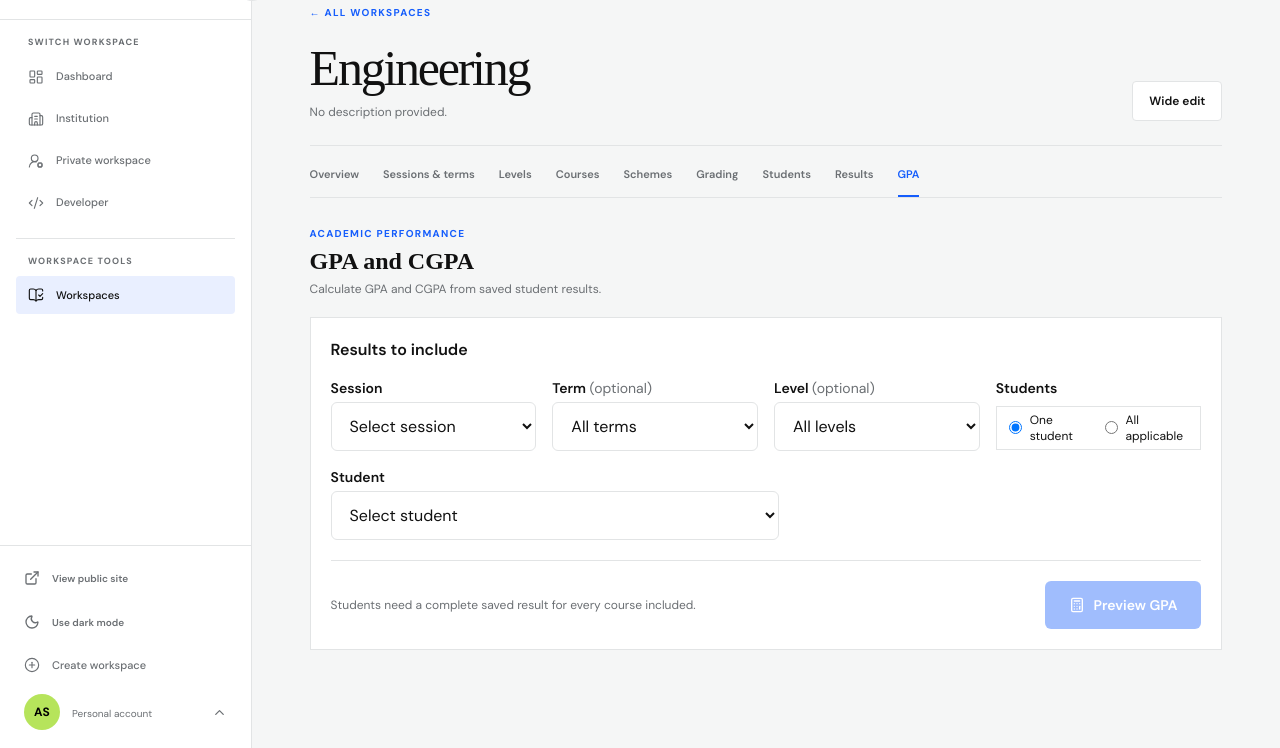
it: GPA workspace flow › replaces a ready preview when save returns a fresh preflight
Select "2026/2027" in the dropdown labelled "Session": (433, 426) left=331, top=402, right=536, bottom=451
Select "First Semester" in the dropdown labelled "Term (optional)": (655, 426) left=552, top=402, right=758, bottom=451
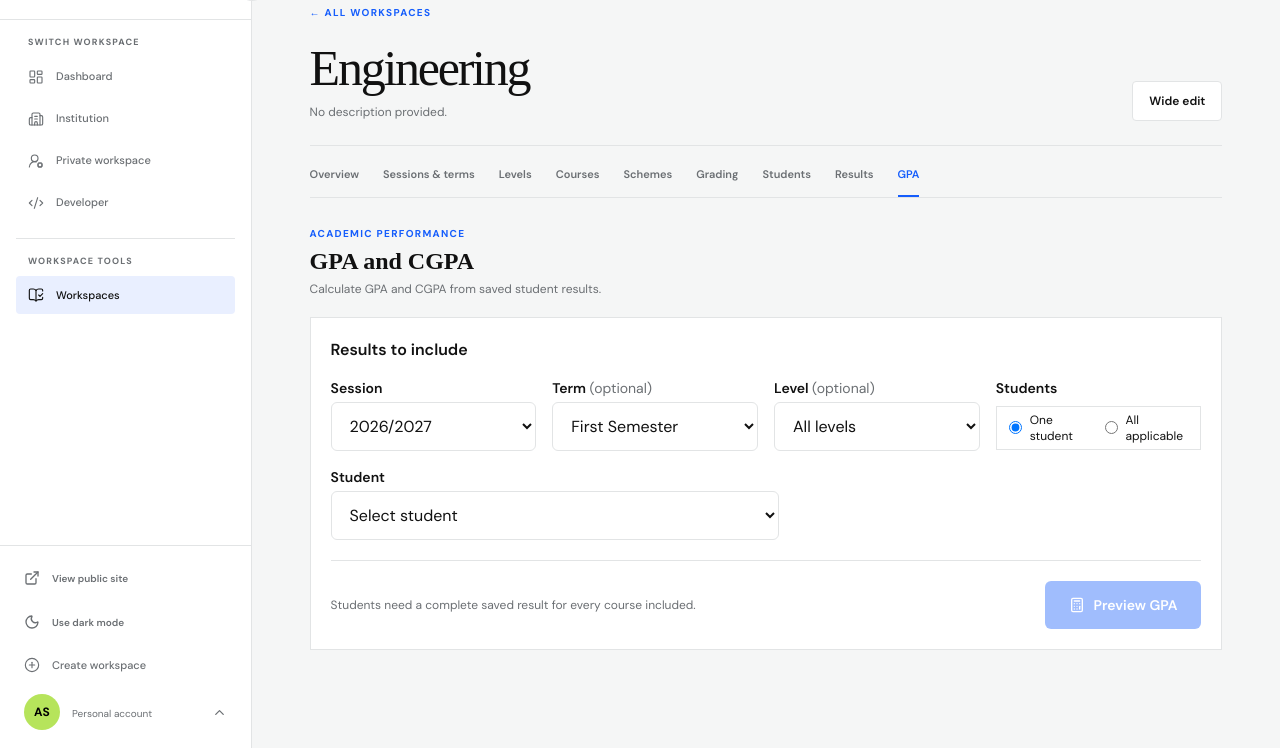
Select "L400 — 400 Level" in the dropdown labelled "Level (optional)": (877, 426) left=774, top=402, right=980, bottom=451
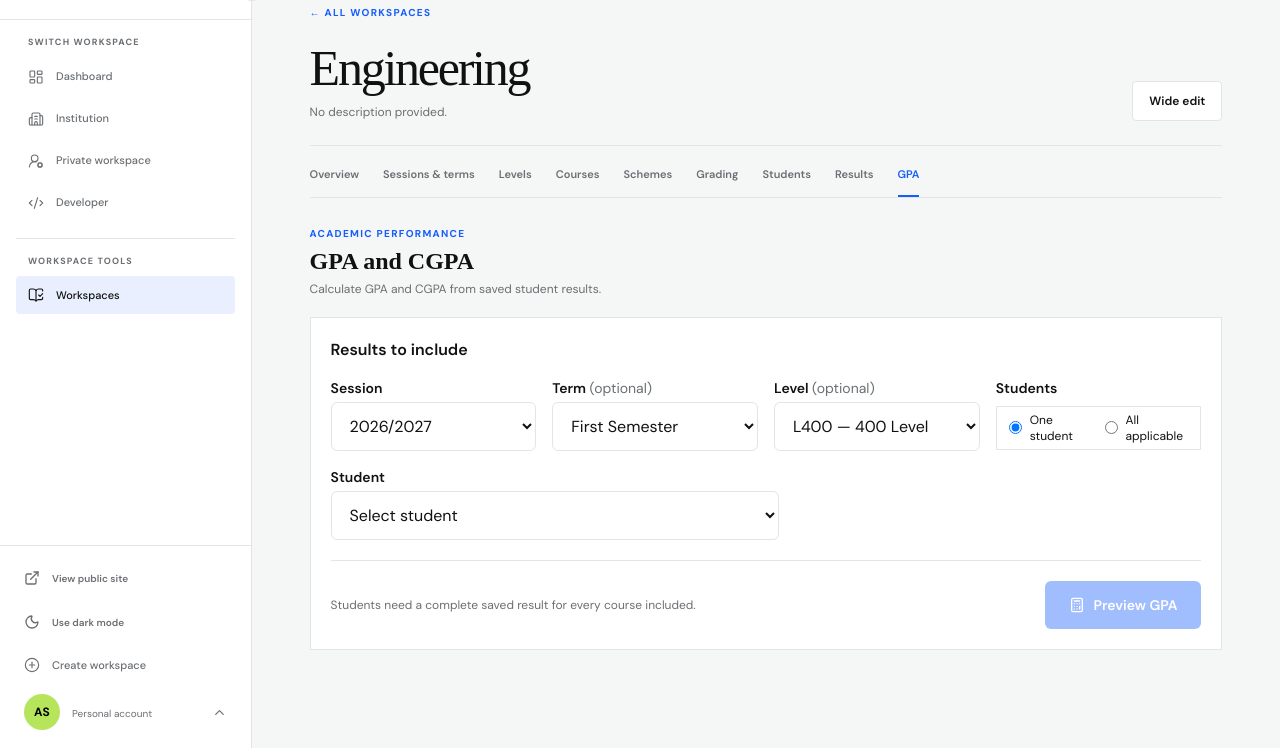
Select "Ada Lovelace · ENG/001" in the dropdown labelled "Student": (555, 515) left=331, top=491, right=779, bottom=540
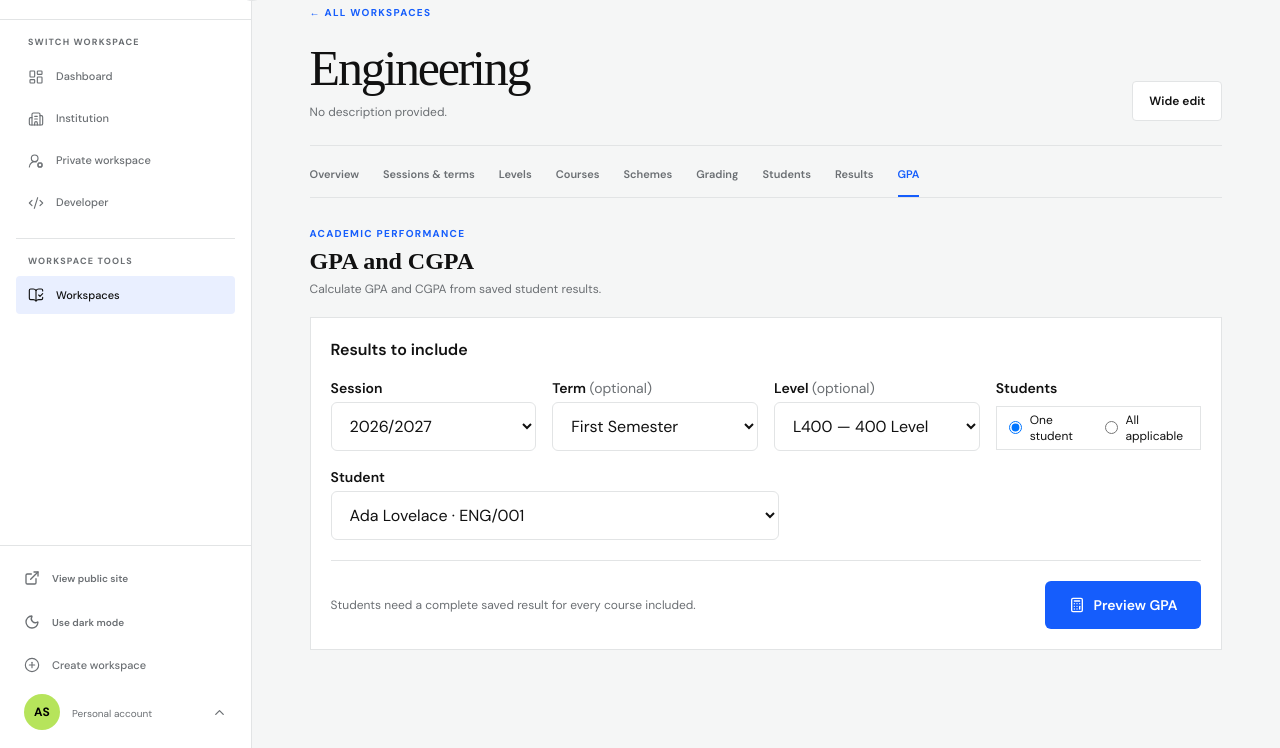
Click the button "Preview GPA": (1123, 605) left=1046, top=581, right=1201, bottom=629
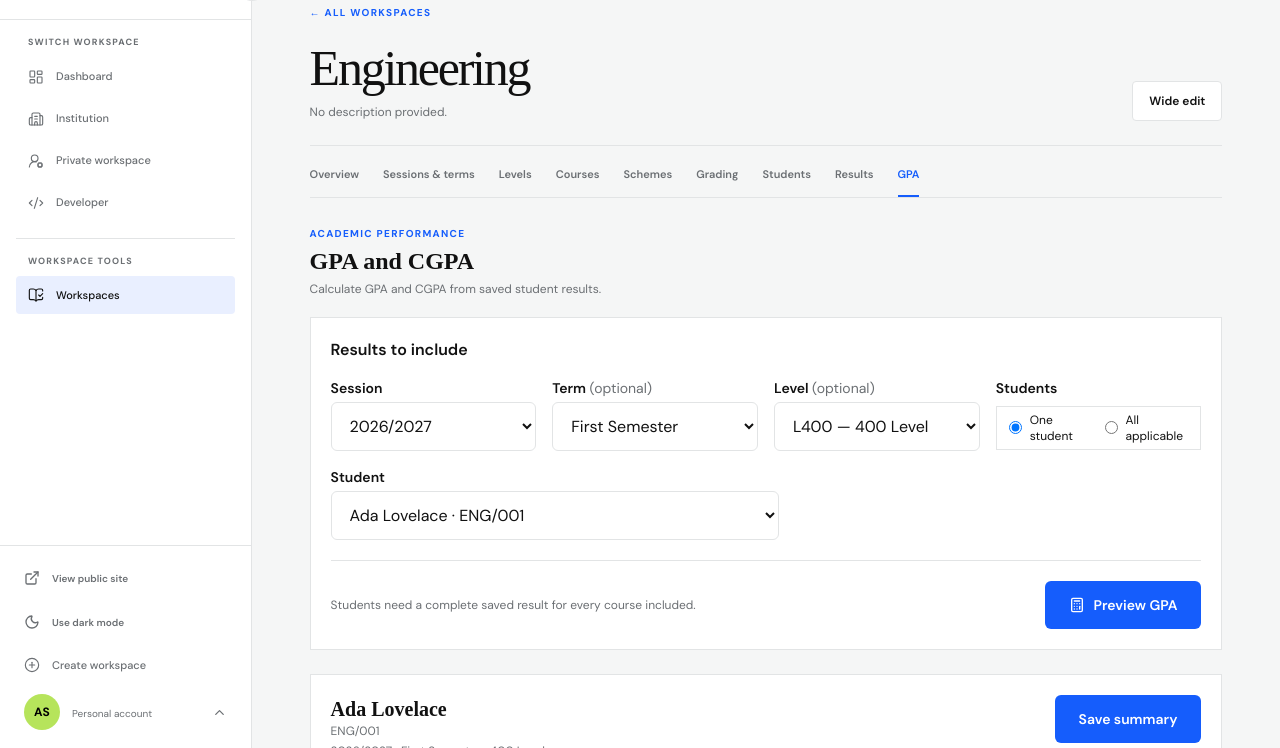
Click the button "Save summary": (1128, 719) left=1054, top=695, right=1201, bottom=743
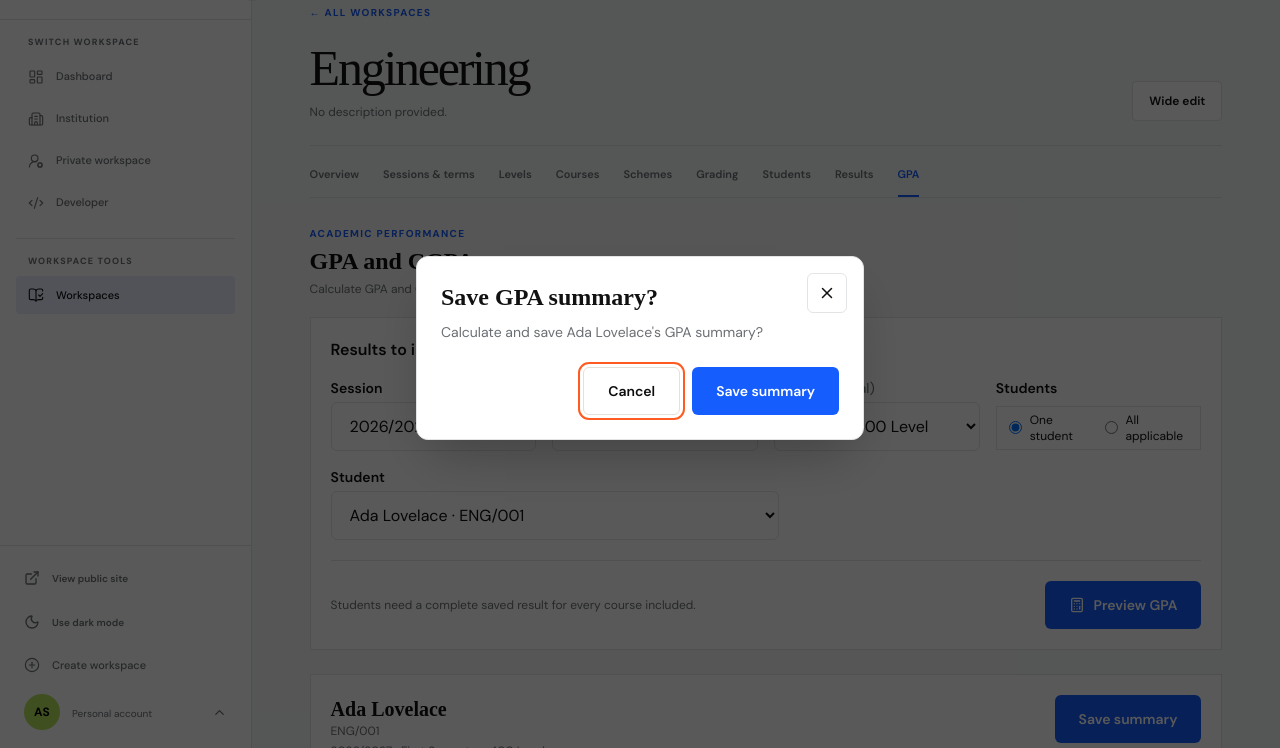
Click the button "Save summary": (766, 391) left=692, top=367, right=839, bottom=415
(page scrolled)
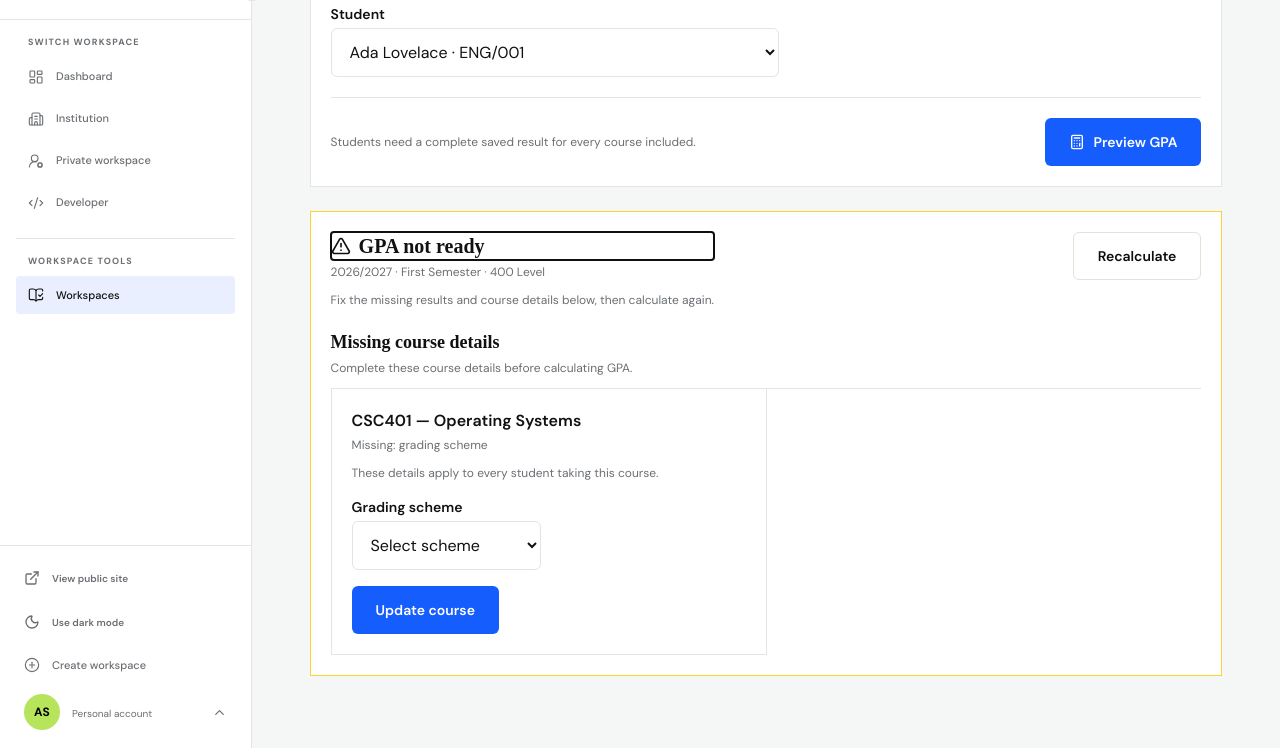
Expected: the heading "GPA not ready" is shown, left=331, top=235, right=484, bottom=257
Expected: the text "Missing: grading scheme" is shown, left=352, top=437, right=488, bottom=453
